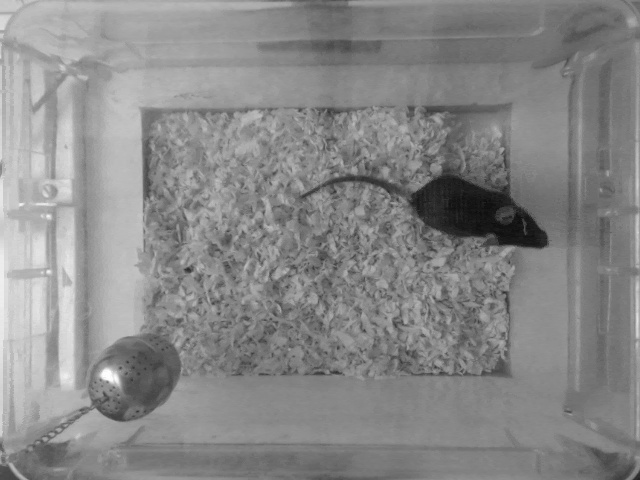mice: (294, 171, 551, 250)
